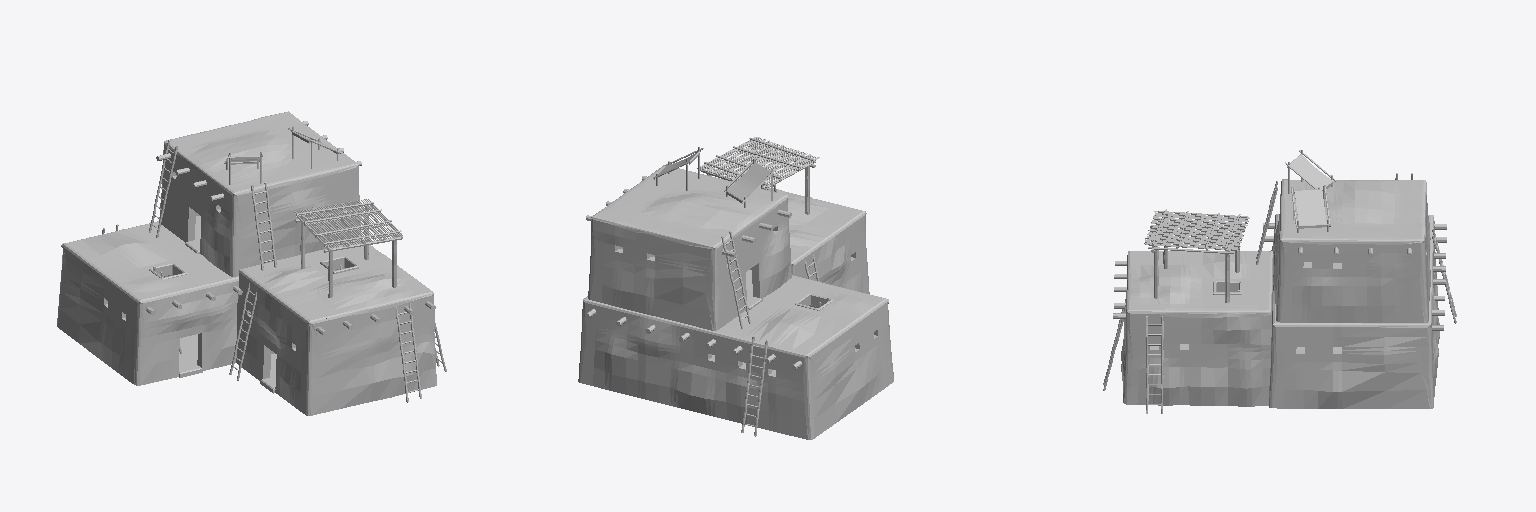
Rendered from lowpoly_turkish_house_008.obj.
3 views of the same model, side by side, from view 1: azimuth 30°, elevation 25°; view 2: azimuth 150°, elevation 25°; view 3: azimuth 270°, elevation 25° (orthographic).
Visible parts, largest first — view 1: Cube.115, Cube.114, Cube.113, Cylinder.070, Cube.176, Cube.190, Cube.001; view 2: Cube.114, Cube.113, Cube.115, Cylinder.070, Plane.012, Cube.174; view 3: Cube.115, Cube.113, Cube.114, Cylinder.070, Plane.011, Plane.012, Cube.175.
Boxes of the visible parts, x1,y1,x2,y2 form: Cube.115: [236, 242, 436, 415]; Cube.114: [57, 216, 238, 385]; Cube.113: [159, 111, 361, 276]; Cylinder.070: [294, 199, 402, 297]; Cube.176: [396, 303, 421, 402]; Cube.190: [251, 182, 276, 270]; Cube.001: [179, 334, 197, 366]; Cube.114: [578, 270, 893, 439]; Cube.113: [588, 165, 791, 330]; Cube.115: [760, 187, 869, 293]; Cylinder.070: [697, 137, 819, 214]; Plane.012: [726, 162, 770, 202]; Cube.174: [741, 336, 767, 436]; Cube.115: [1121, 251, 1273, 406]; Cube.113: [1273, 179, 1430, 322]; Cube.114: [1269, 214, 1439, 408]; Cylinder.070: [1144, 209, 1249, 302]; Plane.011: [1294, 189, 1326, 228]; Plane.012: [1290, 154, 1332, 189]; Cube.175: [1146, 316, 1163, 413].
Size of the model in its own units: 6.9 by 5.23 by 8.49.